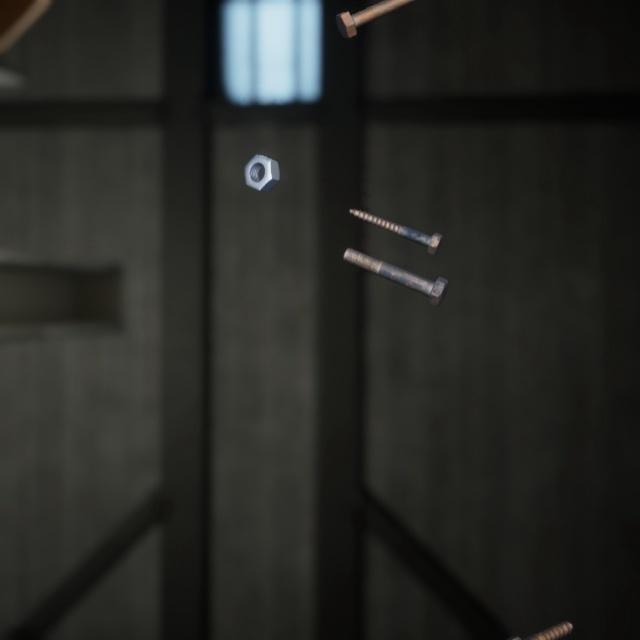bolt: (338, 227, 452, 295), (345, 189, 447, 245), (500, 592, 577, 640), (331, 0, 410, 36)
nut: (239, 135, 283, 182)
